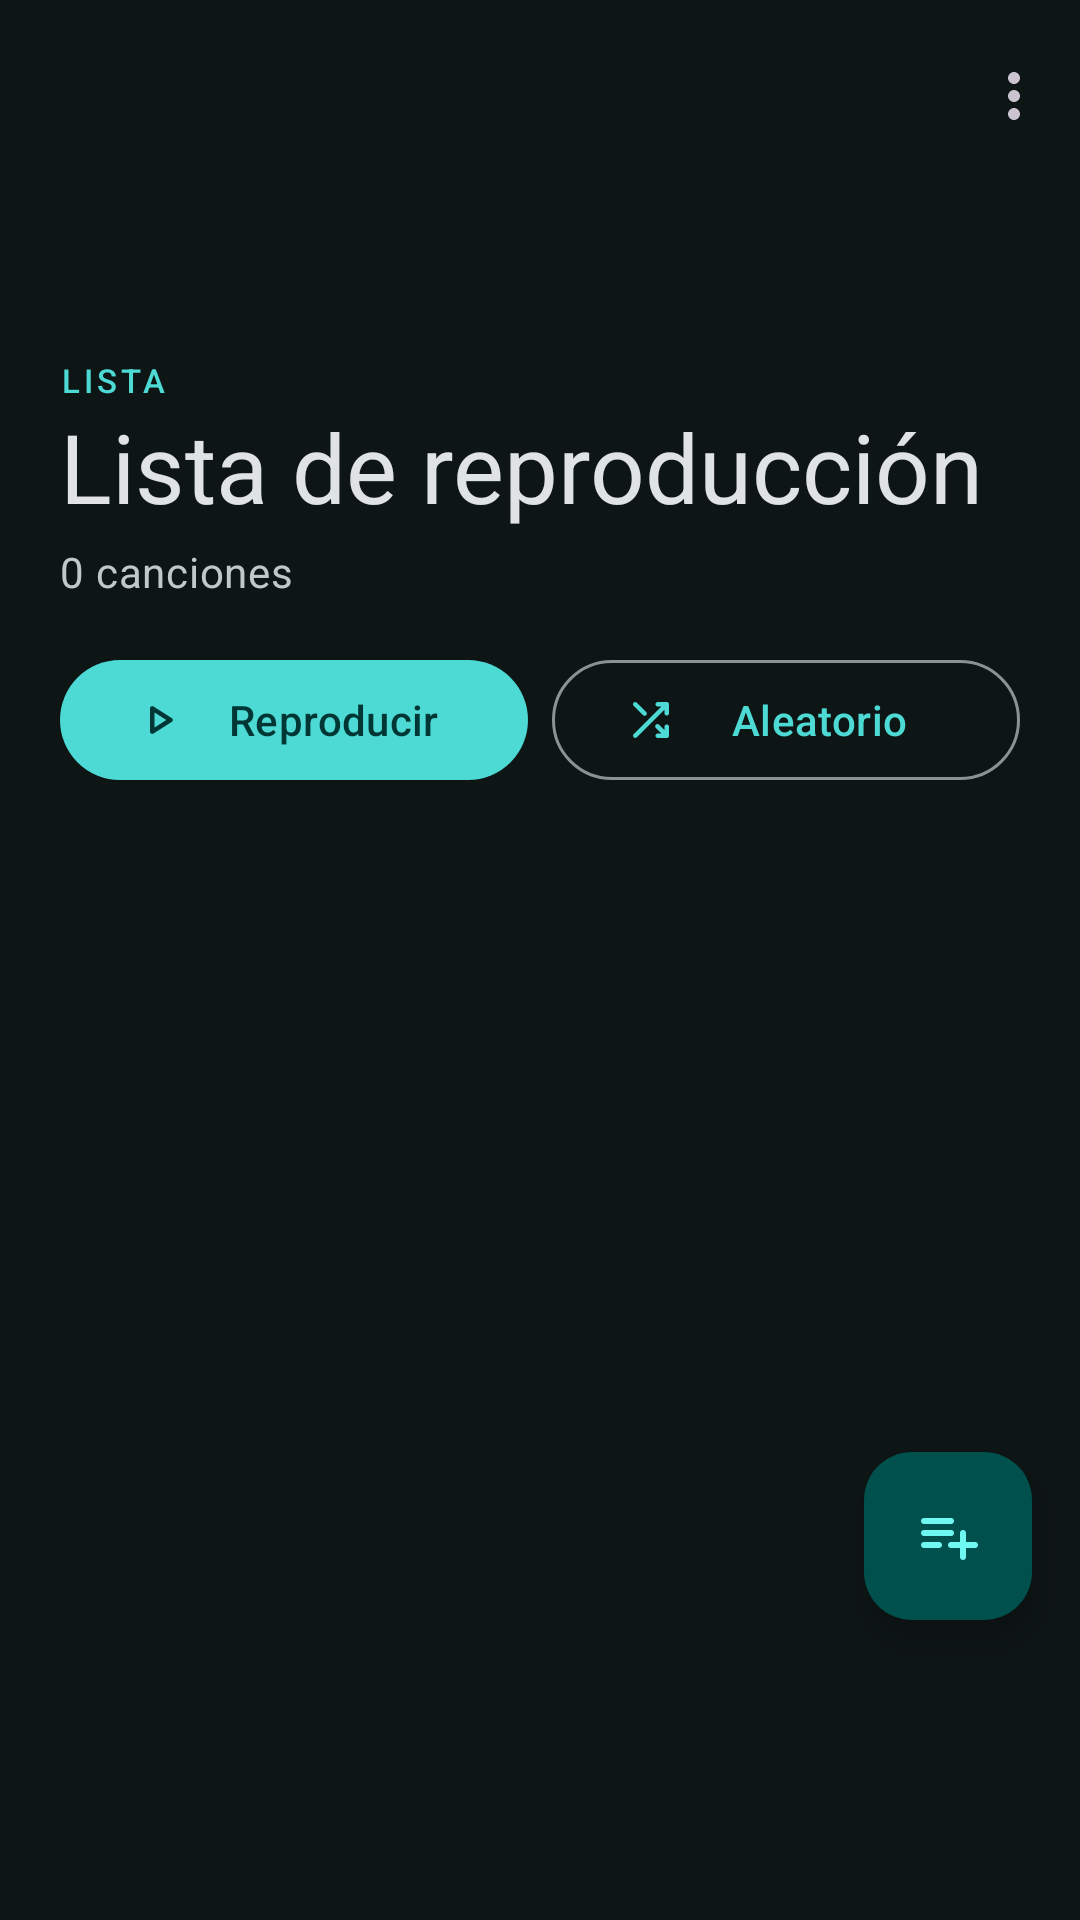

Point at icon controls on the screen. Image size 1080px×1920px, points as point (x, y).
Agregar canciones: point (948, 1536)
